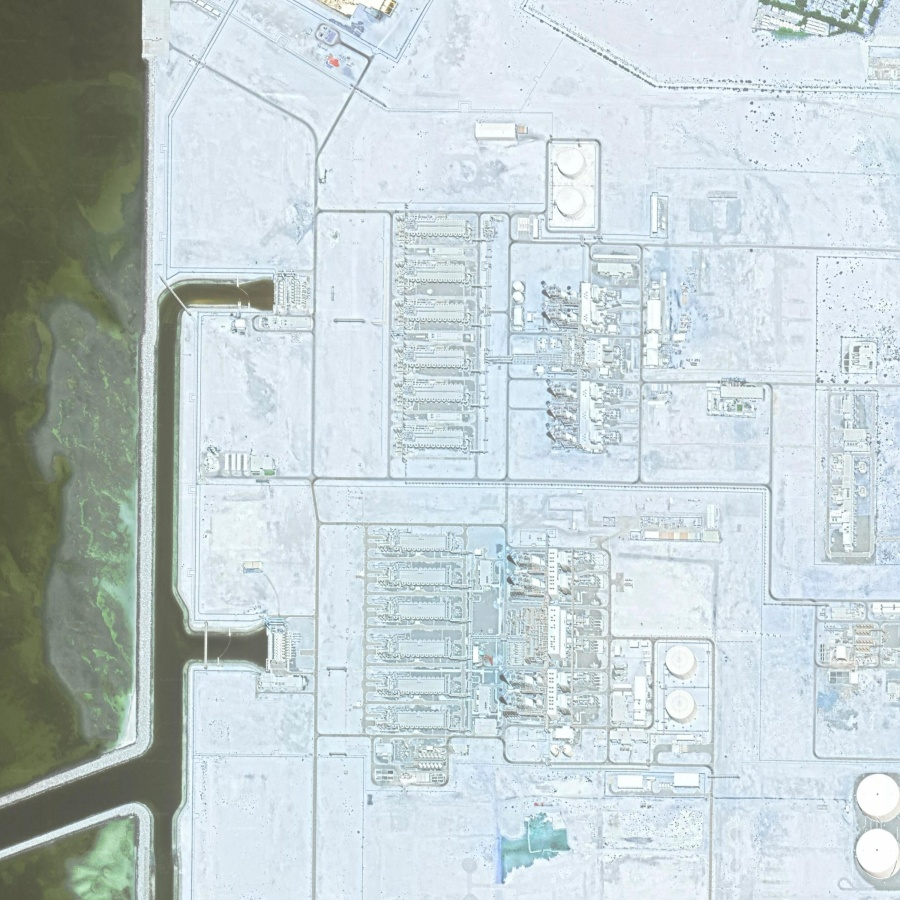PowerPlant: (388, 115, 720, 459), (349, 519, 711, 799)
